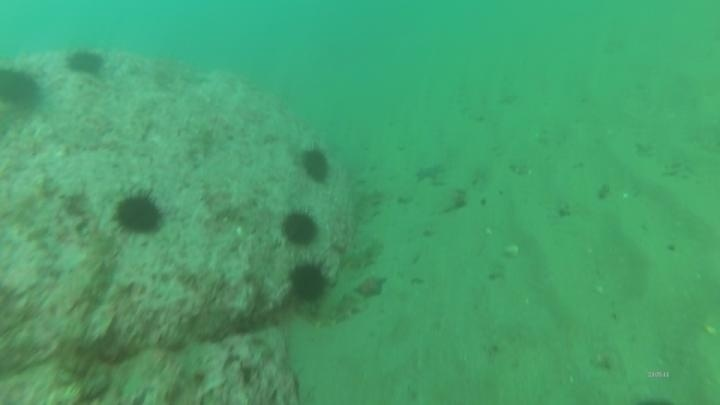echinus: (112, 190, 166, 238), (0, 64, 45, 113), (286, 260, 330, 305), (279, 208, 321, 249), (298, 145, 333, 186), (64, 47, 107, 79)
holothurian: (309, 289, 369, 330), (337, 236, 385, 273)
starfish: (352, 272, 389, 302), (413, 160, 448, 186)
